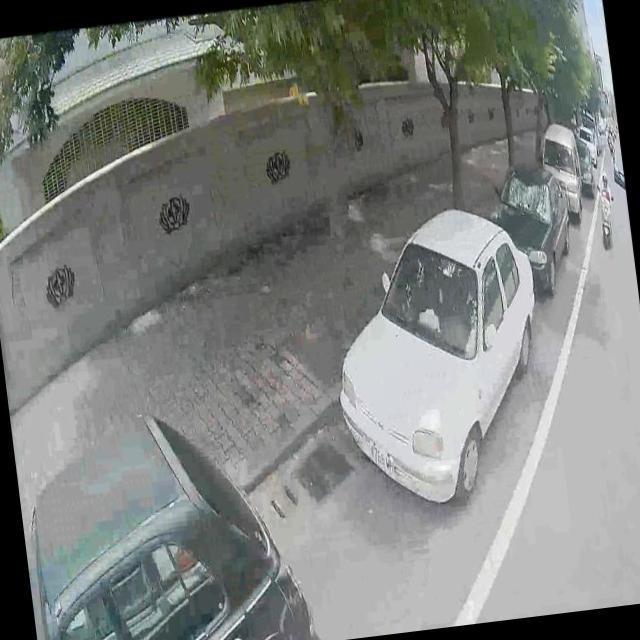person: (597, 173, 610, 197)
